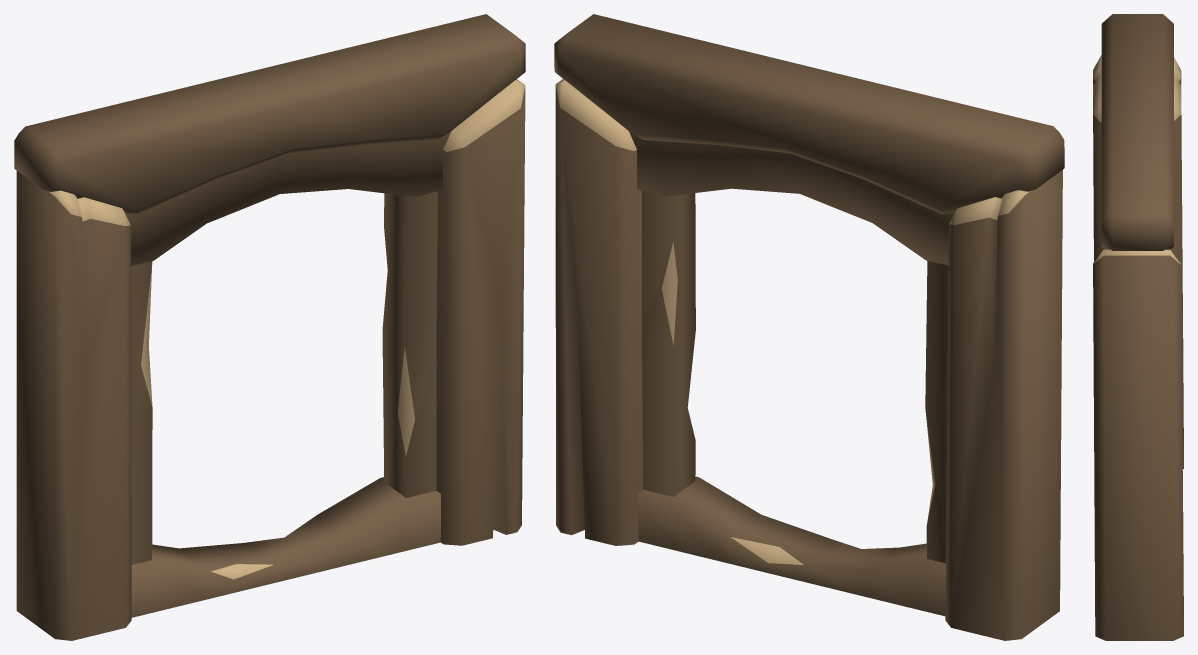
Rendered from rpgpp_ag_door_frame_05.fbx.
3 views of the same model, side by side, from view 1: azimuth 30°, elevation 25°; view 2: azimuth 150°, elevation 25°; view 3: azimuth 270°, elevation 25° (orthographic). The views are drawn at different scales.
Parts seen in each view (by area): view 1: rpgpp_ag_door_frame_05; view 2: rpgpp_ag_door_frame_05; view 3: rpgpp_ag_door_frame_05.
Part boxes in pixels (x1=…): rpgpp_ag_door_frame_05: x1=14, y1=14, x2=525, y2=640; rpgpp_ag_door_frame_05: x1=554, y1=14, x2=1064, y2=640; rpgpp_ag_door_frame_05: x1=1093, y1=14, x2=1183, y2=640.
Bounding box in the file's own units: 3.11 × 3 × 0.5773.
